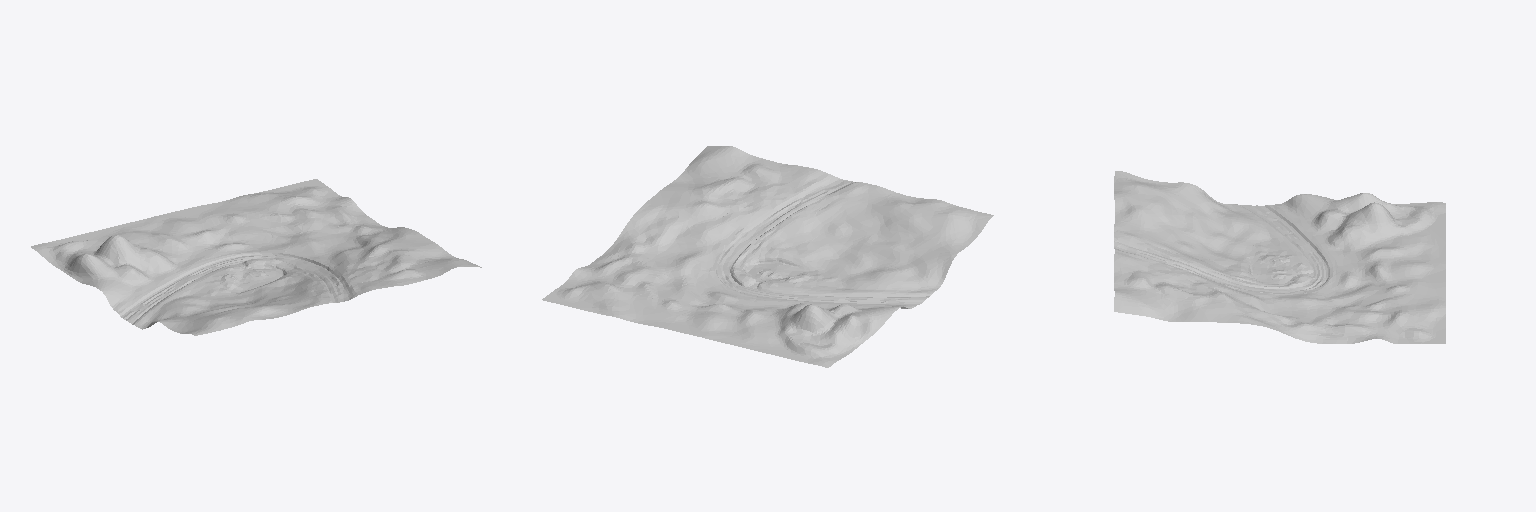
The model's file is snow_terrain.obj.
3 views of the same model, side by side, from view 1: azimuth 30°, elevation 25°; view 2: azimuth 150°, elevation 25°; view 3: azimuth 270°, elevation 25° (orthographic).
Visible parts, largest first — view 1: Plane.001; view 2: Plane.001; view 3: Plane.001.
Part boxes in pixels (x1,y1,x2,y2): Plane.001: (31, 179, 481, 335); Plane.001: (542, 146, 993, 367); Plane.001: (1114, 171, 1445, 343).
Size of the model in its own units: 200 by 26.75 by 200.